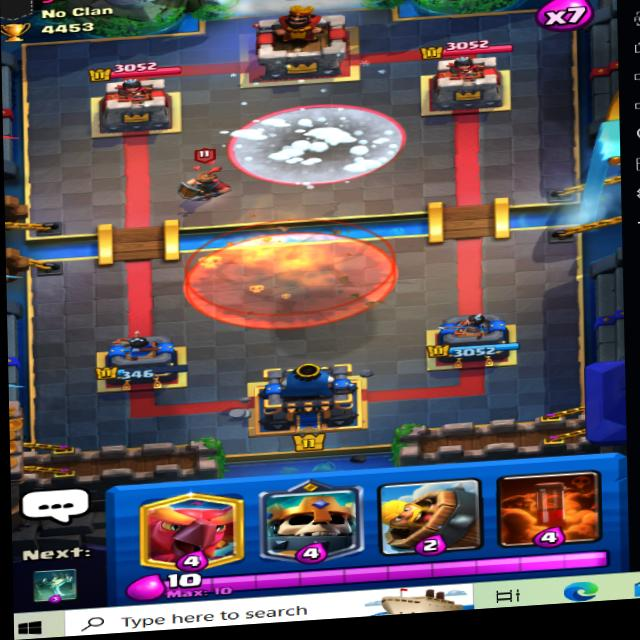earthquake: (192, 211, 400, 316)
freeze: (231, 89, 410, 189)
poison: (197, 218, 394, 336)
royal-recruits: (182, 149, 240, 206)
